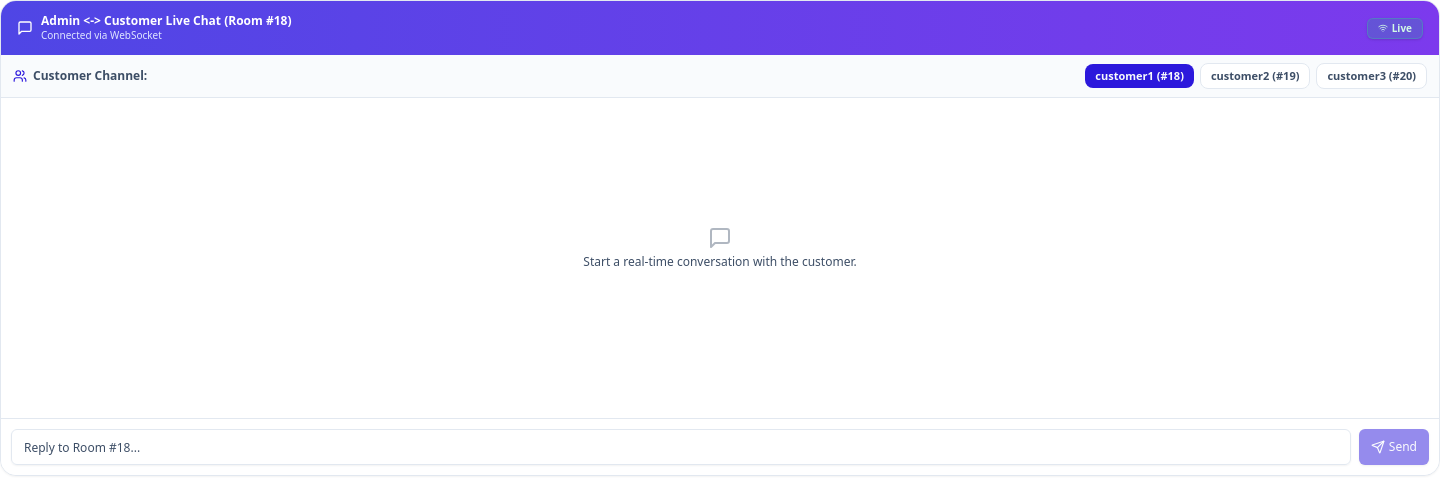
Test: Day 17 — Full-Stack Integration & Real-Time Features Suite › 5. Admin ↔ Customer Live Support Chat Foundation › connects to /ws/chat/{room_id}, sends chat messages, and renders real-time broadcasts
(page scrolled)
// Type and send a chat message as Admin
Type "Hello! Your order ORD-5002 has just been shipped." into the field named "chat message input". click: (681, 447)
box: [11,429,1351,465]
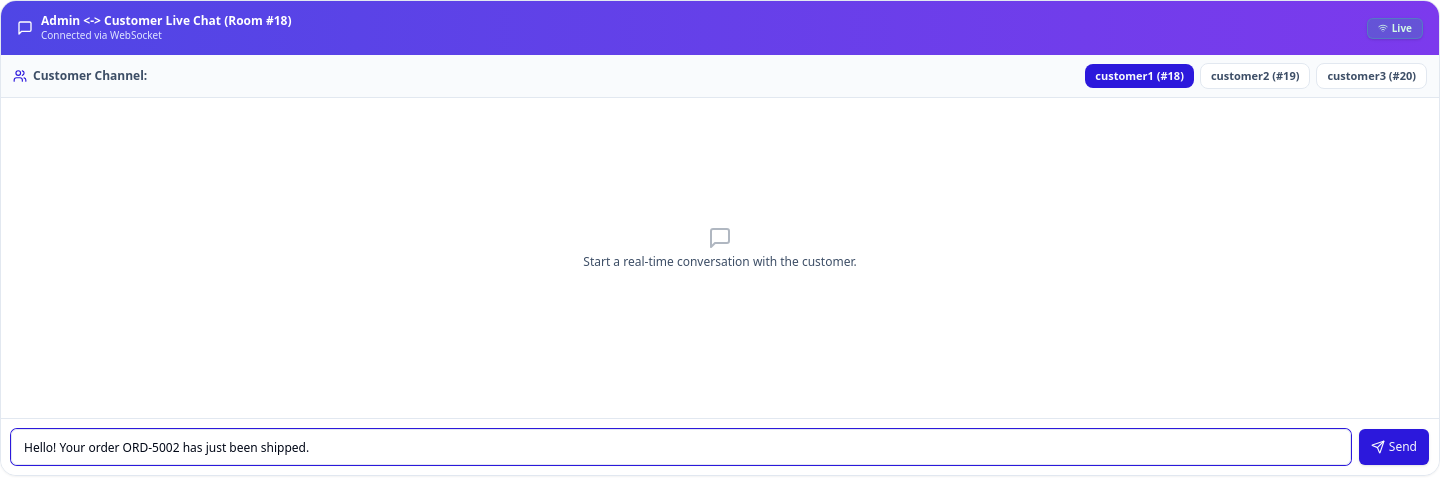
Click the button with aria-label "send chat message". click: click(1394, 447)
box: [1359,429,1429,465]
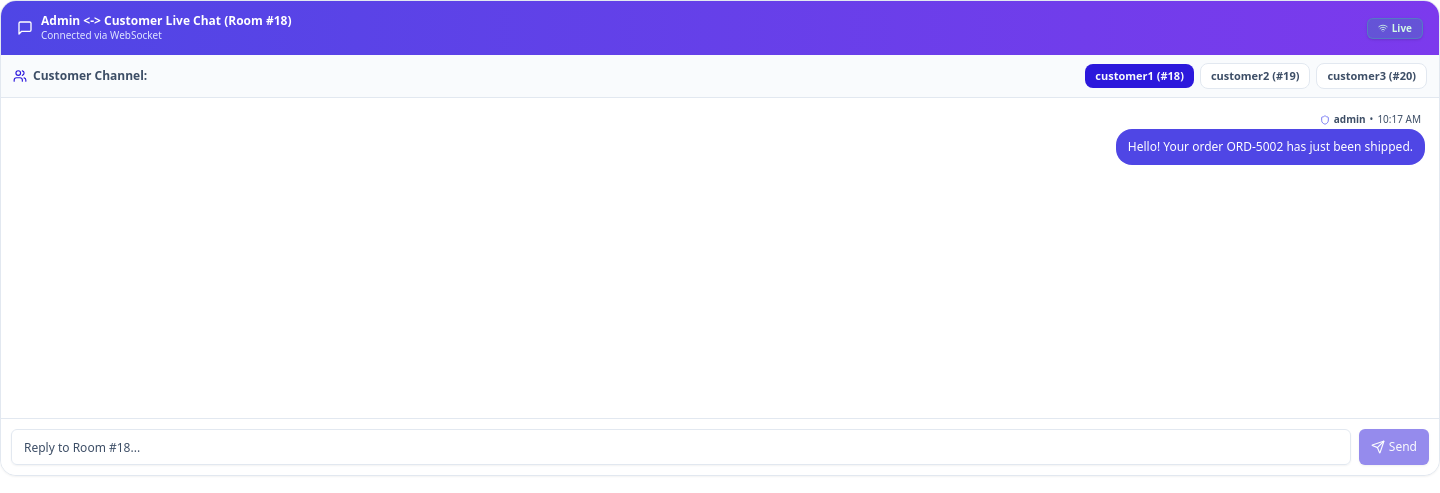
Result: the text "Hello! Your order ORD-5002 has just been shipped." is shown at [1116,129,1425,164]
